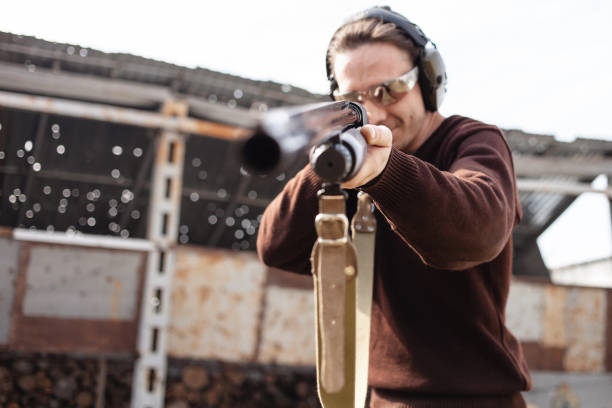gun: (235, 99, 367, 185)
